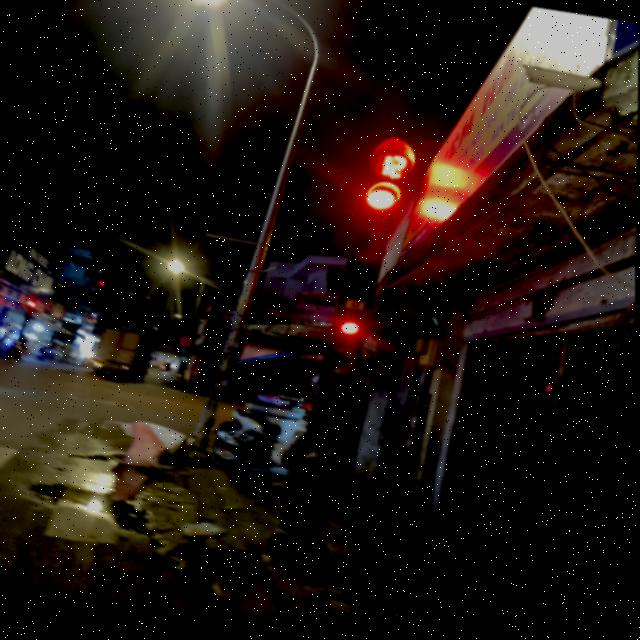Red: (345, 172, 407, 281), (320, 312, 370, 391)
